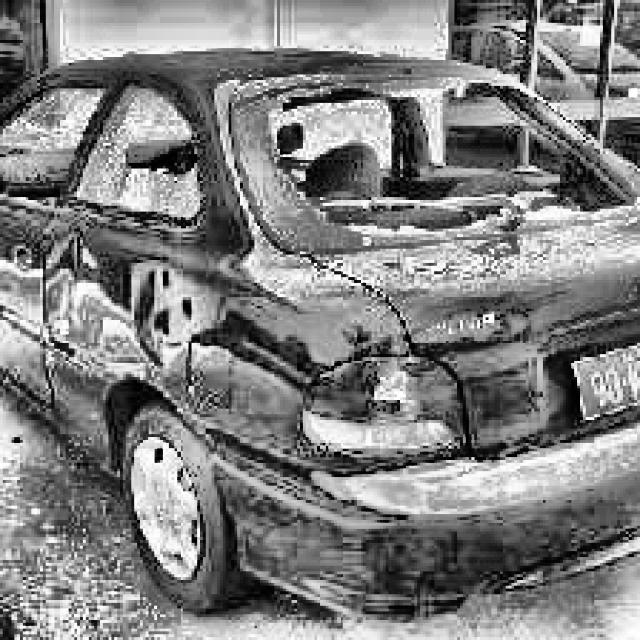glass_shatter: (243, 84, 634, 231), (124, 94, 190, 219)
